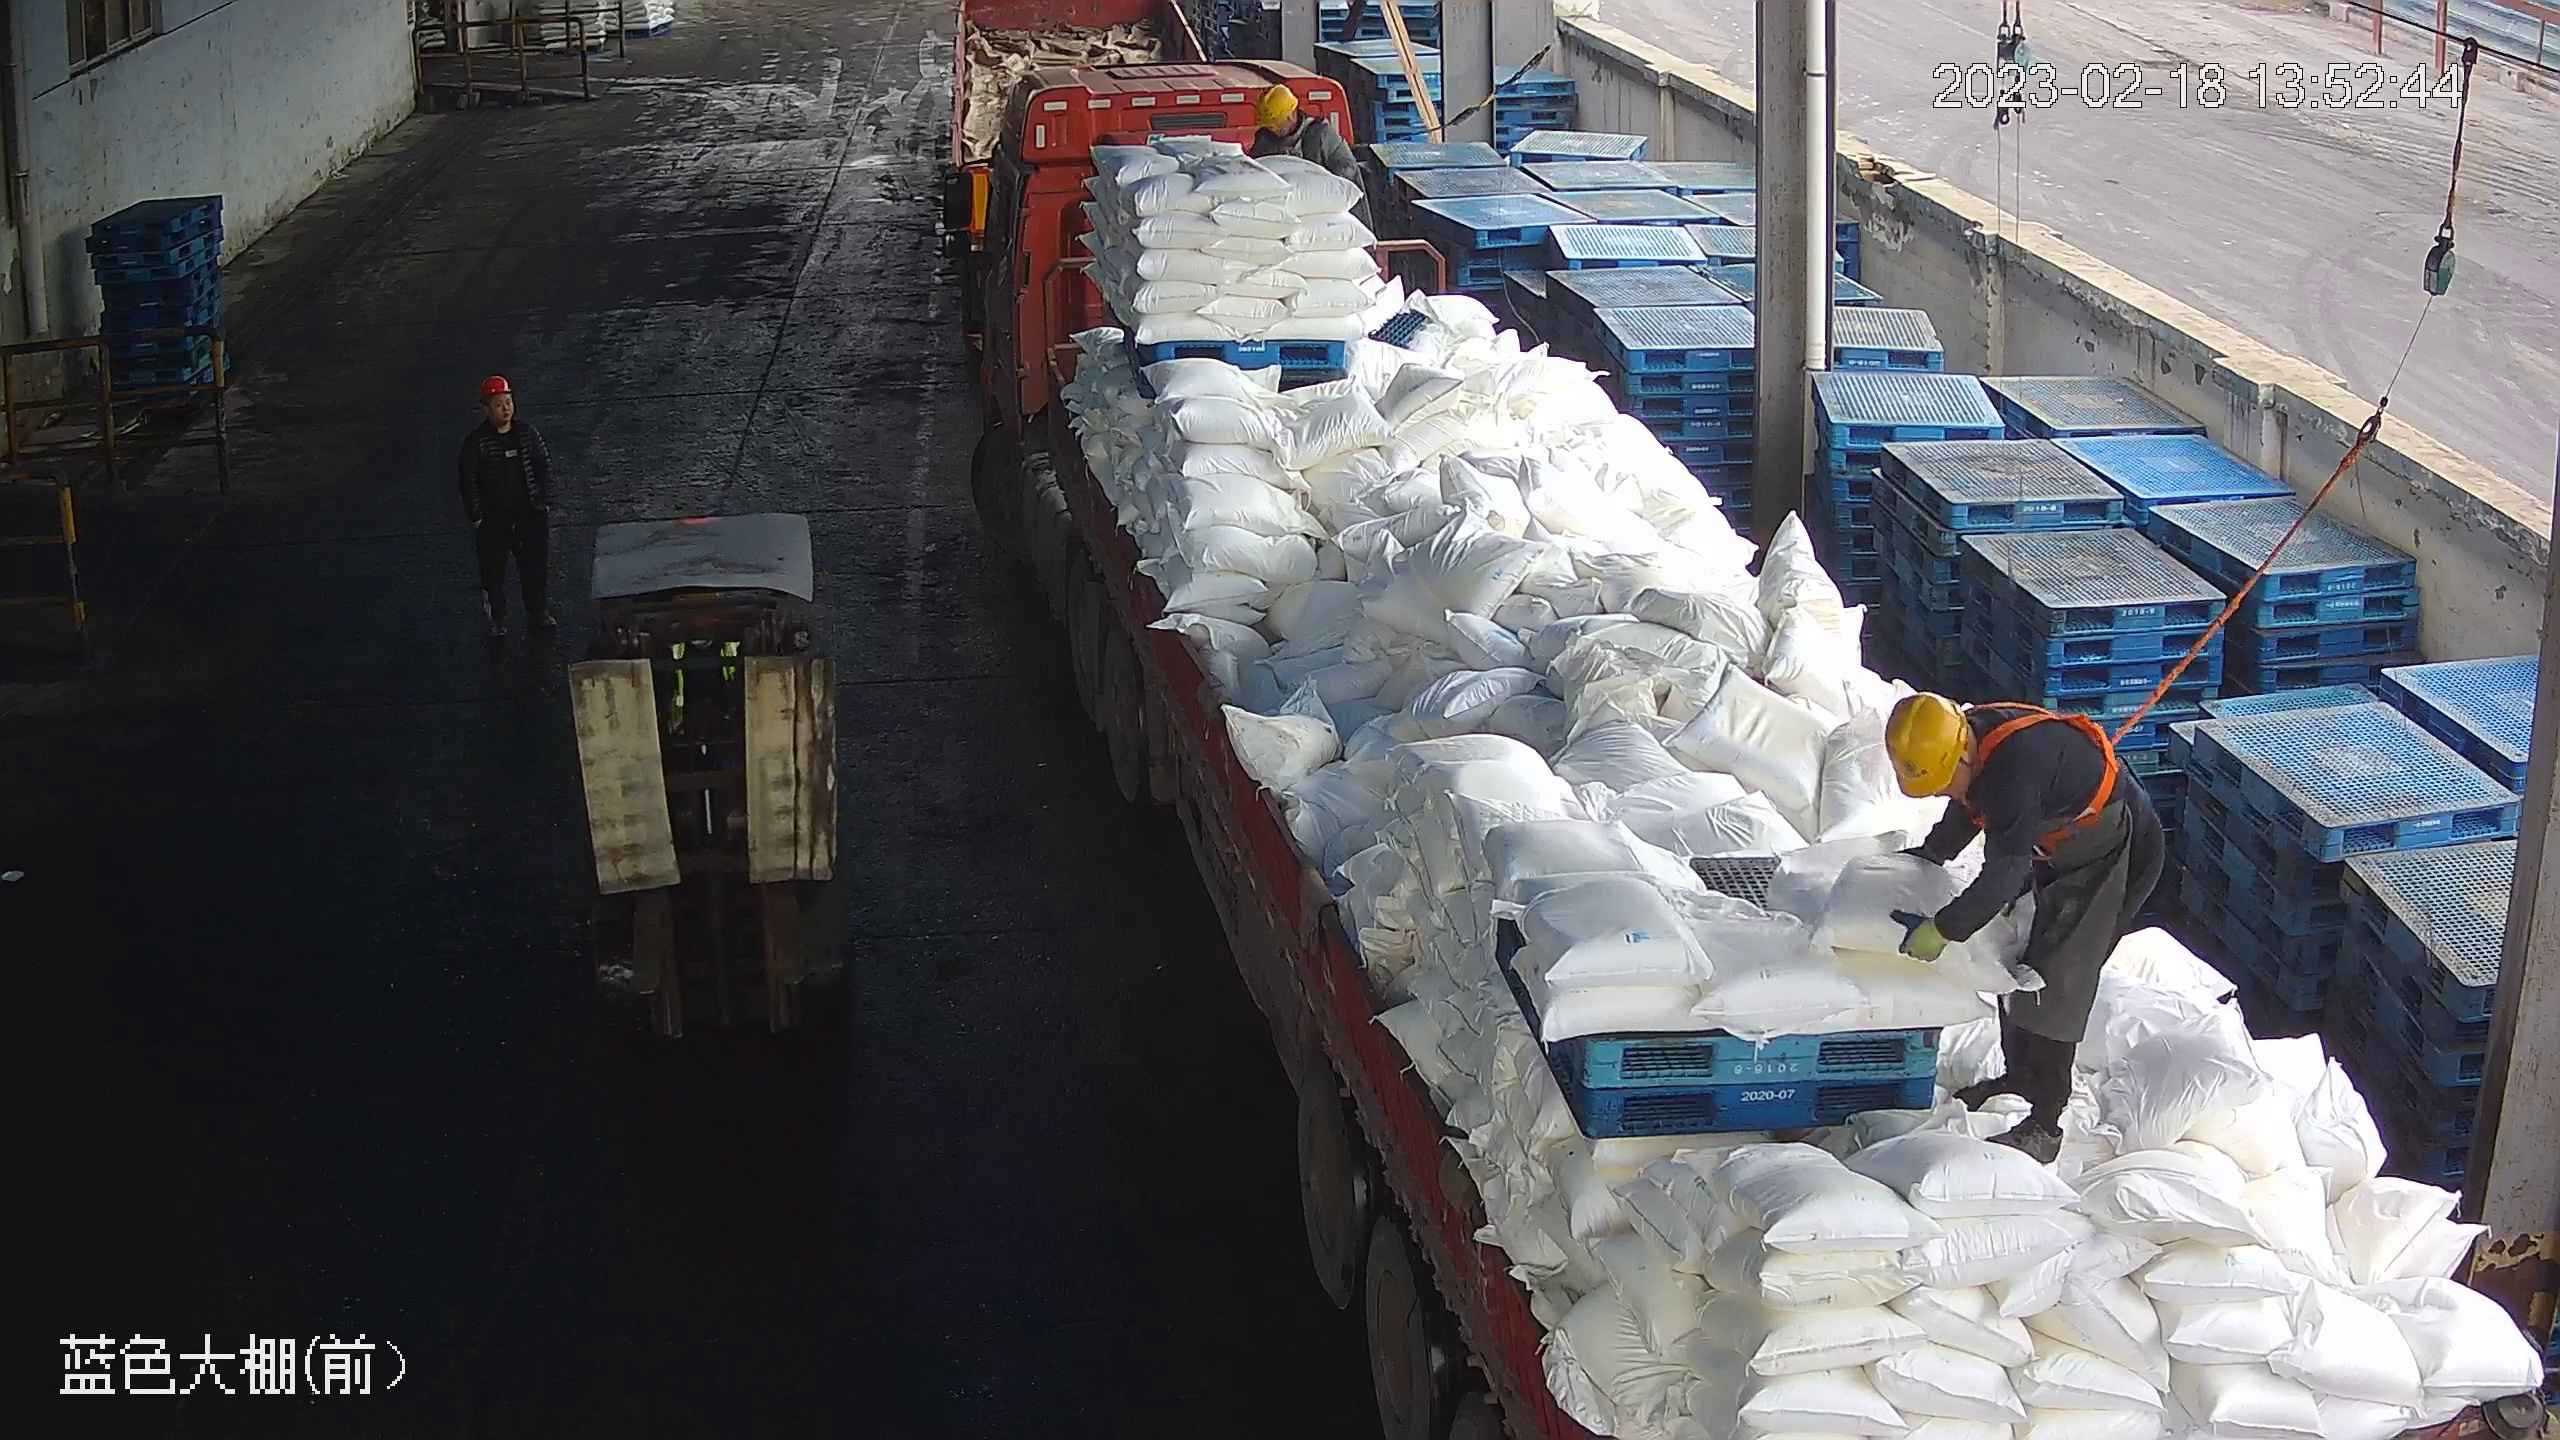belt: (1973, 684, 2152, 844), (1268, 116, 1322, 165)
head: (1888, 689, 2067, 856), (1249, 83, 1357, 174), (454, 378, 551, 472)
helmet: (1884, 689, 1967, 800), (1251, 88, 1301, 123), (478, 376, 510, 398)
people: (1884, 688, 2169, 1174), (454, 378, 566, 647)
truck: (942, 57, 2560, 1440)
